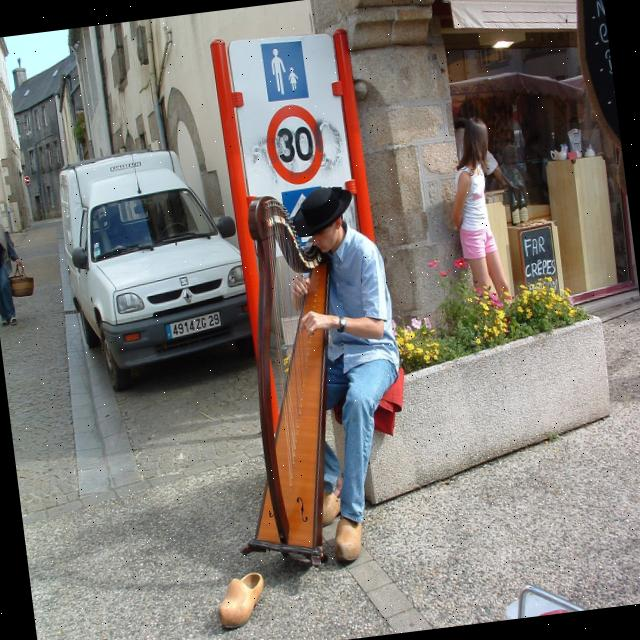harp: (200, 185, 364, 568)
